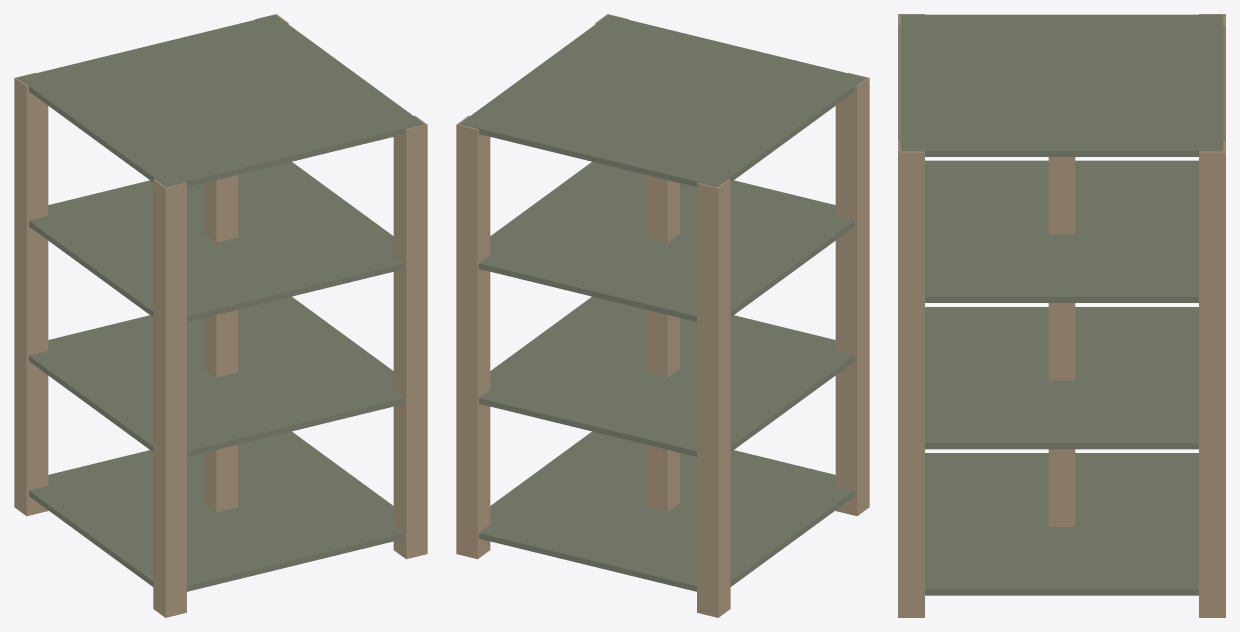
Rendered from ruins_floors.glb.
3 renders of one model, left to right at view 1: azimuth 30°, elevation 25°; view 2: azimuth 150°, elevation 25°; view 3: azimuth 270°, elevation 25°, orthographic. The views are drawn at different scales.
Parts seen in each view (by area): view 1: Cube; view 2: Cube; view 3: Cube.
Boxes of the visible parts, bbox=[...] form: Cube: bbox=[14, 14, 427, 617]; Cube: bbox=[456, 14, 869, 617]; Cube: bbox=[898, 14, 1225, 617].
Size of the model in its own units: 6.1 by 9.56 by 6.1.
1 material, 1 textured.
